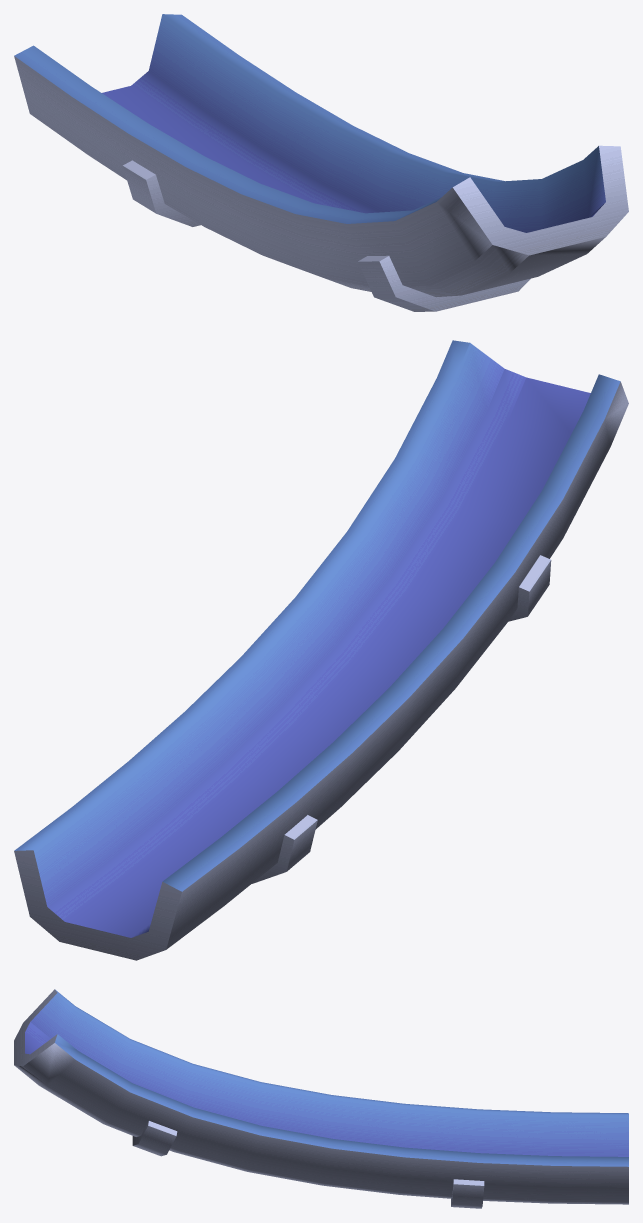
The model's file is coaster-flume-straight-hill-beginning.glb.
The picture shows the model from 3 angles, top to bottom: view 1: azimuth 30°, elevation 25°; view 2: azimuth 150°, elevation 25°; view 3: azimuth 270°, elevation 25°; orthographic projection. The views are drawn at different scales.
Visible parts, largest first — view 1: coaster-flume-straight-hill-beginning; view 2: coaster-flume-straight-hill-beginning; view 3: coaster-flume-straight-hill-beginning.
Part boxes in pixels (<box>): coaster-flume-straight-hill-beginning: <box>14,14,628,311</box>; coaster-flume-straight-hill-beginning: <box>14,340,628,960</box>; coaster-flume-straight-hill-beginning: <box>14,989,628,1208</box>.
Bounding box in the file's own units: 2.53 × 3.92 × 12.
Materials: 1 (1 with a texture image).
